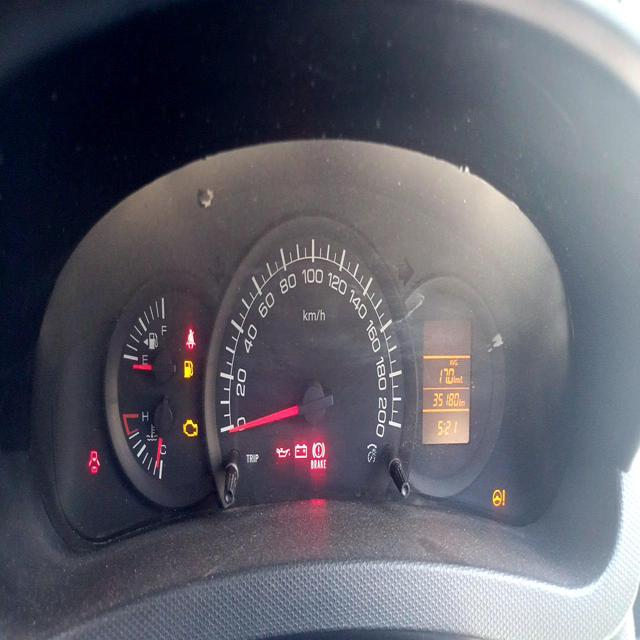odometer: (430, 390, 460, 411)
